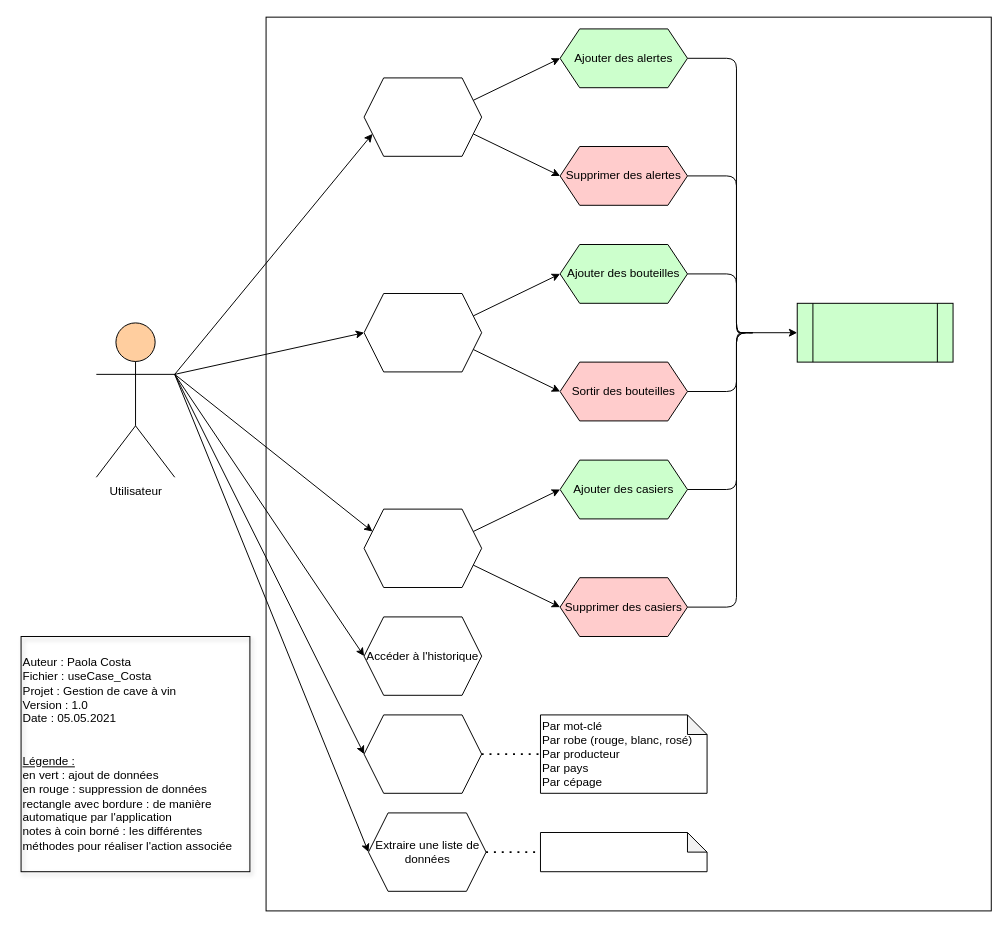
The diagram is 1008 pixels wide and 928 high, and some of its shapes have lost their labels. Each missing label, with the centre of its shape:
"Créer un historique" belongs at (874,332).
"Effectuer une recherche dans les bouteilles" belongs at (422,753).
"En PDF Par une impression" belongs at (623,852).
"Gérer les alertes" belongs at (422,116).
"Gérer les bouteilles" belongs at (422,332).
"Gérer les casiers" belongs at (422,548).
